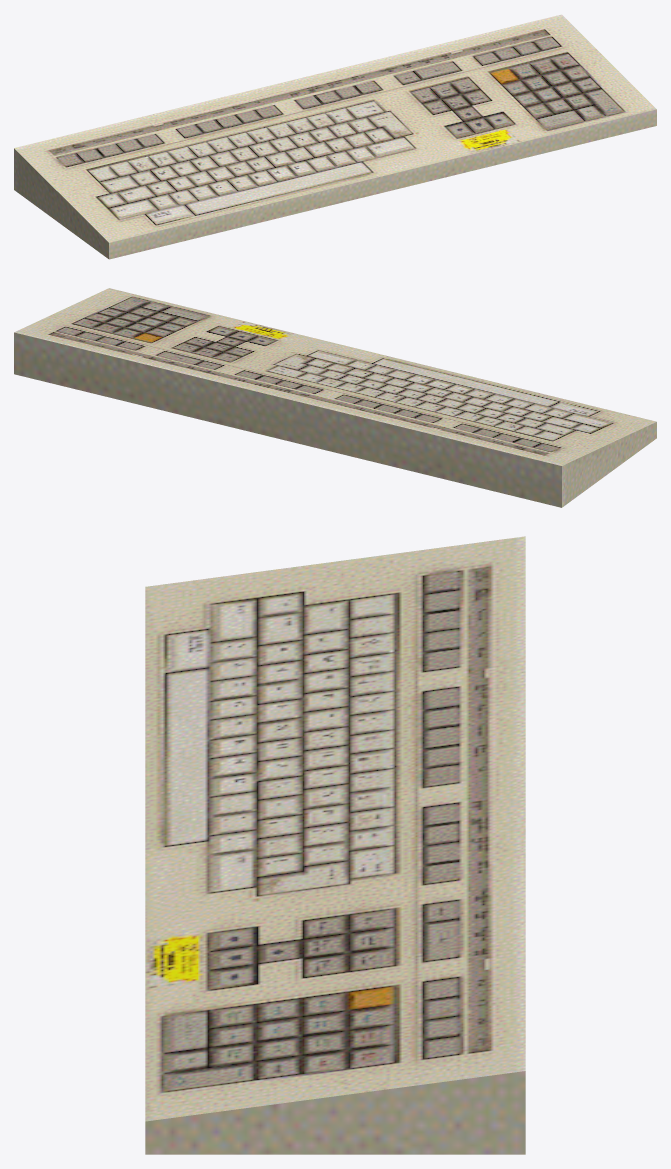
The model's file is vt220-keyboard.glb.
3 renders of one model, top to bottom at view 1: azimuth 30°, elevation 25°; view 2: azimuth 150°, elevation 25°; view 3: azimuth 270°, elevation 25°, orthographic. The views are drawn at different scales.
Parts seen in each view (by area): view 1: Cube.001; view 2: Cube.001; view 3: Cube.001.
Part boxes in pixels (x1,y1,x2,y2): Cube.001: [14, 14, 656, 259]; Cube.001: [14, 288, 656, 507]; Cube.001: [145, 536, 525, 1154].
Size of the model in its own units: 10.4 by 0.7587 by 3.13.
1 material, 1 textured.
